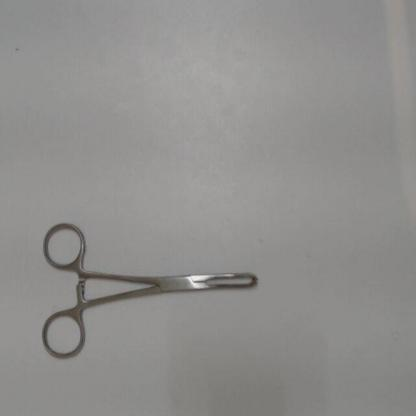Allis Tissue Forceps: (34, 210, 276, 366)
